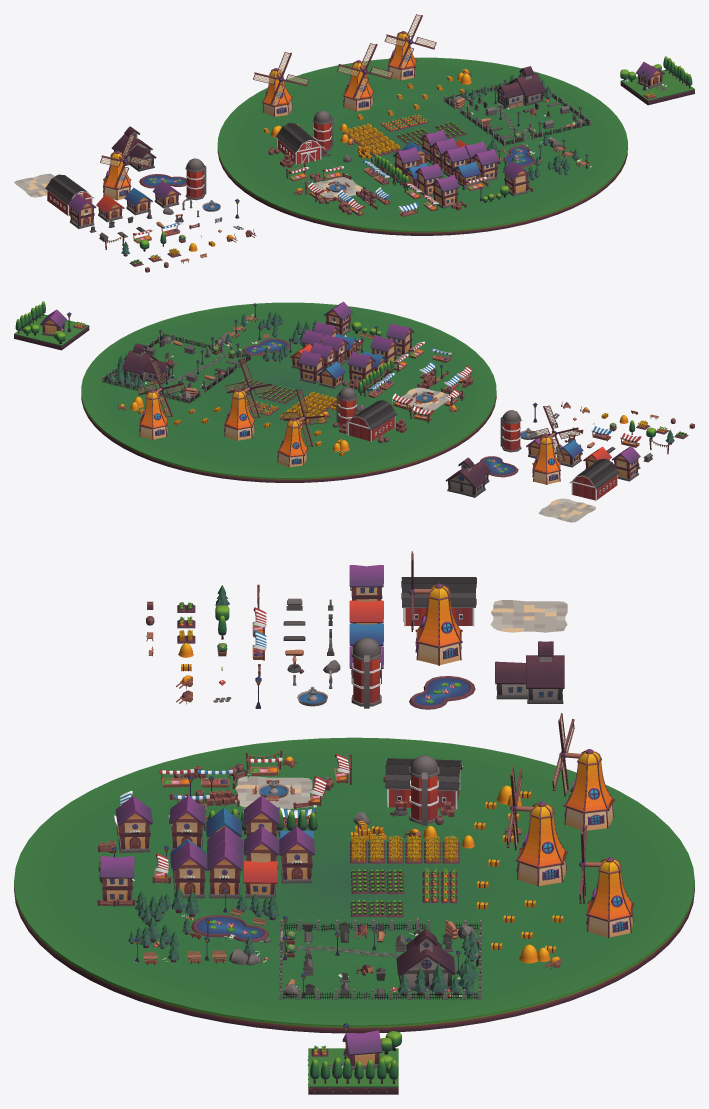
The model's file is PictureCrossTownsAssets.fbx.
The picture shows the model from 3 angles, top to bottom: view 1: azimuth 30°, elevation 25°; view 2: azimuth 150°, elevation 25°; view 3: azimuth 270°, elevation 25°; orthographic projection. The views are drawn at different scales.
Visible parts, largest first — view 1: World, Windmill.002, Windmill.001, Windmill.003, Windmill, Barn.001, House_Purple.002, Barn, Chapel, Sphere.001, House_2Story_Purple, House_2Story_Purple.009 (+16 smaller); view 2: World, Windmill.002, Windmill, Windmill.003, Windmill.001, Barn.001, Barn, House_Purple.002, Chapel, Plane.004, Sphere.001, House_2Story_Purple.006 (+14 smaller); view 3: World, Windmill.002, Windmill.001, Windmill.003, Chapel, Windmill, Barn, Plane.004, Barn.001, House_Purple.002, Sphere.001, Sphere.002 (+15 smaller).
Part boxes in pixels (x1=…): World: x1=217, y1=57, x2=627, y2=235; Windmill.002: x1=337, y1=43, x2=393, y2=111; Windmill.001: x1=253, y1=52, x2=309, y2=116; Windmill.003: x1=384, y1=14, x2=436, y2=80; Windmill: x1=100, y1=133, x2=150, y2=200; Barn.001: x1=275, y1=123, x2=323, y2=164; House_Purple.002: x1=496, y1=66, x2=545, y2=107; Barn: x1=45, y1=174, x2=94, y2=216; Chapel: x1=111, y1=126, x2=156, y2=171; Sphere.001: x1=185, y1=158, x2=206, y2=200; House_2Story_Purple: x1=68, y1=194, x2=96, y2=228; House_2Story_Purple.009: x1=431, y1=175, x2=459, y2=208; World: x1=81, y1=302, x2=496, y2=482; Windmill.002: x1=223, y1=359, x2=273, y2=440; Windmill: x1=529, y1=405, x2=580, y2=484; Windmill.003: x1=137, y1=360, x2=186, y2=439; Windmill.001: x1=277, y1=389, x2=326, y2=467; Barn.001: x1=346, y1=400, x2=397, y2=441; Barn: x1=569, y1=458, x2=619, y2=500; House_Purple.002: x1=122, y1=343, x2=171, y2=384; Chapel: x1=445, y1=457, x2=490, y2=497; Plane.004: x1=538, y1=498, x2=595, y2=522; Sphere.001: x1=500, y1=410, x2=521, y2=452; House_2Story_Purple.006: x1=298, y1=350, x2=326, y2=383; World: x1=14, y1=737, x2=694, y2=1033; Windmill.002: x1=506, y1=766, x2=568, y2=886; Windmill.001: x1=552, y1=713, x2=615, y2=831; Windmill.003: x1=579, y1=825, x2=634, y2=937; Chapel: x1=495, y1=641, x2=564, y2=703; Windmill: x1=408, y1=551, x2=462, y2=665; Barn: x1=401, y1=577, x2=476, y2=626; Plane.004: x1=490, y1=600, x2=567, y2=632; Barn.001: x1=384, y1=758, x2=462, y2=809; House_Purple.002: x1=396, y1=929, x2=455, y2=990; Sphere.001: x1=351, y1=638, x2=381, y2=708; Sphere.002: x1=409, y1=755, x2=439, y2=825.
Size of the model in its own units: 6431 by 730 by 3772.
